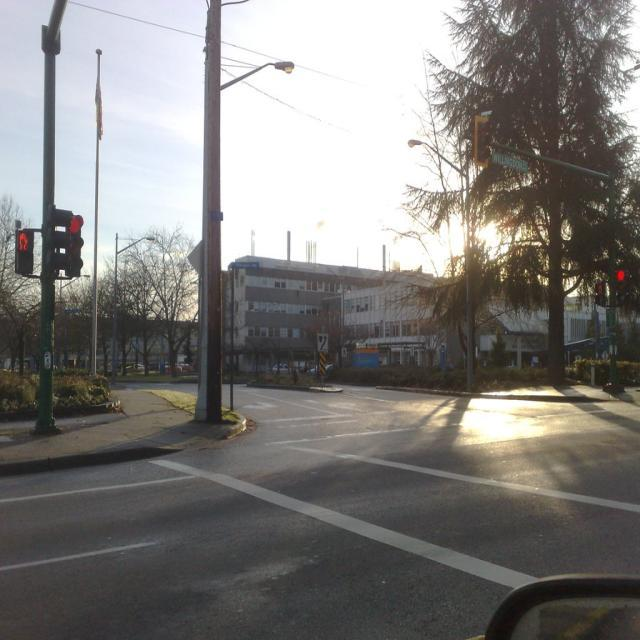off traffic light: (44, 203, 69, 276)
traffic light: (71, 207, 91, 272), (15, 229, 35, 274), (594, 283, 606, 303)
